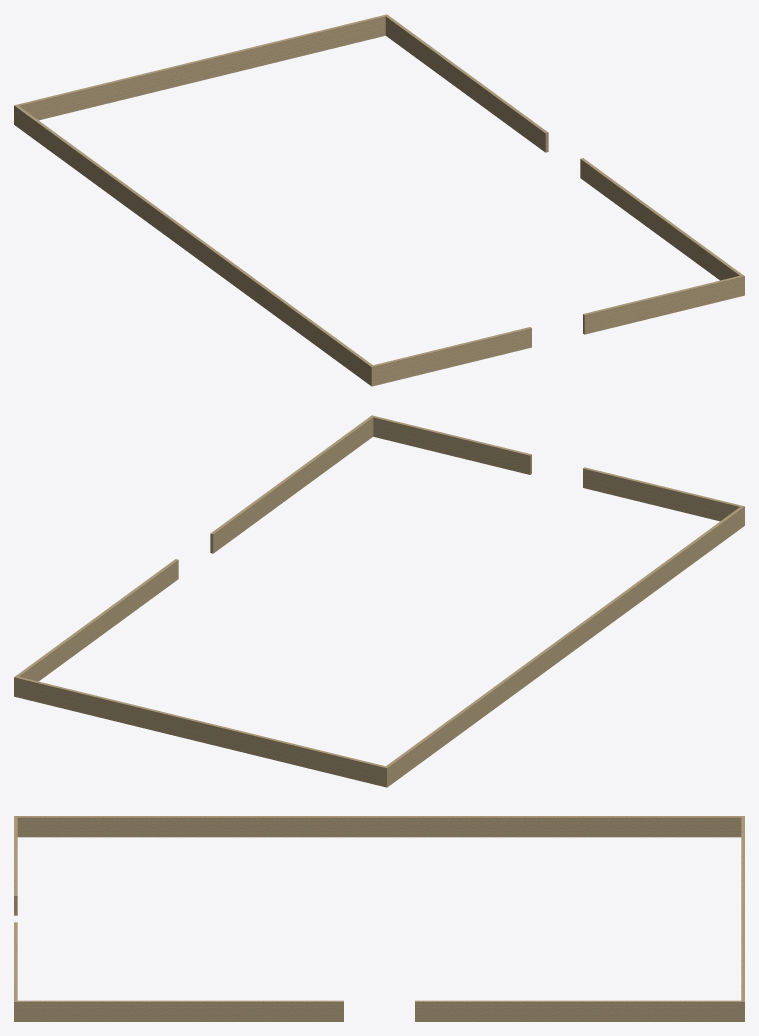
The model's file is atrio_barda.obj.
The picture shows the model from 3 angles, top to bottom: view 1: azimuth 30°, elevation 25°; view 2: azimuth 150°, elevation 25°; view 3: azimuth 270°, elevation 25°; orthographic projection. The views are drawn at different scales.
Visible parts, largest first — view 1: oeste, fondo, frentdDER_002, frentIZQ, frentdDER, frentdDER_001; view 2: oeste, fondo, frentdDER_001, frentdDER_002, frentdDER, frentIZQ; view 3: oeste, frentdDER_002, frentdDER_001, fondo, frentIZQ, frentdDER.
Boxes of the visible parts, x1,y1,x2,y2 form: oeste: (15, 106, 372, 384); fondo: (14, 14, 388, 125); frentdDER_002: (385, 15, 548, 152); frentIZQ: (370, 327, 531, 386); frentdDER: (583, 275, 744, 334); frentdDER_001: (580, 158, 742, 280); oeste: (386, 507, 743, 785); fondo: (14, 676, 388, 787); frentdDER_001: (210, 416, 373, 553); frentdDER_002: (16, 559, 178, 681); frentdDER: (370, 415, 531, 474); frentIZQ: (583, 467, 744, 526); oeste: (17, 816, 741, 837); frentdDER_002: (415, 1000, 742, 1021); frentdDER_001: (17, 1000, 343, 1021); fondo: (741, 816, 744, 1021); frentIZQ: (14, 816, 17, 915); frentdDER: (14, 922, 17, 1021).
Bounding box in the file's own units: 60.52 × 3 × 100.
1 material, 1 textured.
